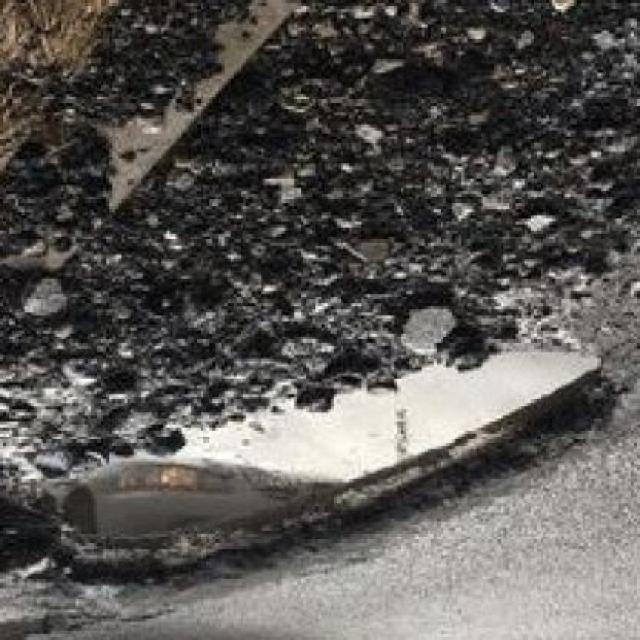pothole: (0, 348, 622, 601)
